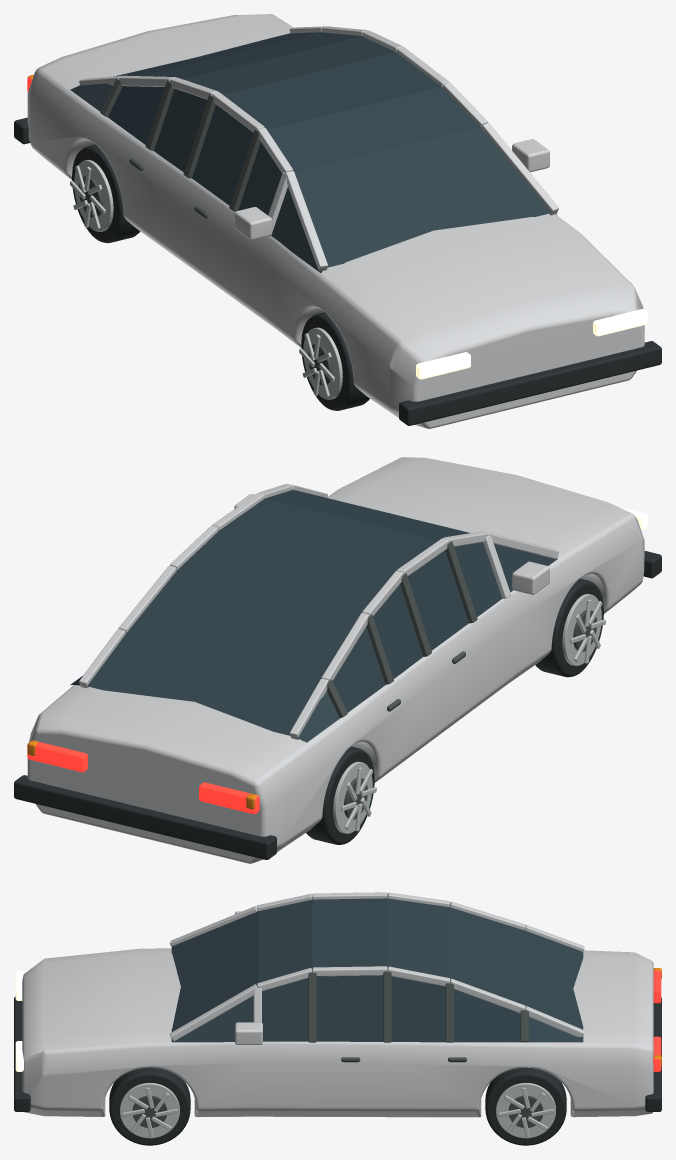
3 renders of one model, top to bottom at view 1: azimuth 30°, elevation 25°; view 2: azimuth 150°, elevation 25°; view 3: azimuth 270°, elevation 25°, orthographic. The views are drawn at different scales.
Visible parts, largest first — view 1: Painted bodyshell, Cabin, Bumper, Däck, Däck.002, Alloy wheel, Alloy wheel.002, Roof rail, Roof rail.001, Mirror, Headlamp, Headlamp.001 (+5 smaller); view 2: Painted bodyshell, Cabin, Bumper.001, Däck, Däck.002, Alloy wheel, Alloy wheel.002, Ruby tail lens.001, Ruby tail lens, Mirror, Roof rail.008, Window pillar.004 (+9 smaller); view 3: Painted bodyshell, Cabin, Däck.001, Däck.003, Alloy wheel.003, Alloy wheel.001, Roof rail.001, Bumper, Bumper.001, Roof rail.009, Roof rail.005, Window pillar.005 (+13 smaller).
Part boxes in pixels (x1=…): Painted bodyshell: x1=27, y1=14, x2=644, y2=428; Cabin: x1=70, y1=32, x2=556, y2=272; Bumper: x1=399, y1=341, x2=661, y2=425; Däck: x1=301, y1=312, x2=369, y2=410; Däck.002: x1=72, y1=144, x2=139, y2=243; Alloy wheel: x1=303, y1=327, x2=342, y2=399; Alloy wheel.002: x1=74, y1=159, x2=113, y2=231; Roof rail: x1=285, y1=171, x2=327, y2=271; Roof rail.001: x1=481, y1=122, x2=558, y2=215; Mirror: x1=234, y1=207, x2=272, y2=240; Headlamp: x1=416, y1=352, x2=470, y2=379; Headlamp.001: x1=593, y1=309, x2=647, y2=336; Painted bodyshell: x1=27, y1=457, x2=644, y2=863; Cabin: x1=70, y1=489, x2=557, y2=742; Bumper.001: x1=14, y1=775, x2=276, y2=859; Däck: x1=535, y1=578, x2=603, y2=677; Däck.002: x1=306, y1=746, x2=374, y2=844; Alloy wheel: x1=562, y1=594, x2=601, y2=665; Alloy wheel.002: x1=333, y1=761, x2=372, y2=833; Ruby tail lens.001: x1=27, y1=742, x2=87, y2=772; Ruby tail lens: x1=199, y1=782, x2=259, y2=814; Mirror: x1=512, y1=561, x2=549, y2=594; Roof rail.008: x1=321, y1=612, x2=369, y2=680; Window pillar.004: x1=400, y1=573, x2=431, y2=656; Painted bodyshell: x1=22, y1=948, x2=653, y2=1117; Cabin: x1=171, y1=898, x2=583, y2=1042; Däck.001: x1=109, y1=1067, x2=190, y2=1145; Däck.003: x1=485, y1=1067, x2=566, y2=1145; Alloy wheel.003: x1=496, y1=1082, x2=555, y2=1138; Alloy wheel.001: x1=120, y1=1082, x2=179, y2=1138; Roof rail.001: x1=169, y1=984, x2=257, y2=1041; Bumper: x1=14, y1=996, x2=30, y2=1111; Bumper.001: x1=645, y1=997, x2=661, y2=1111; Roof rail.009: x1=450, y1=978, x2=525, y2=1013; Roof rail.005: x1=312, y1=966, x2=387, y2=976; Window pillar.005: x1=383, y1=971, x2=391, y2=1042.
Size of the model in its own units: 2.24 by 1.43 by 5.1.
